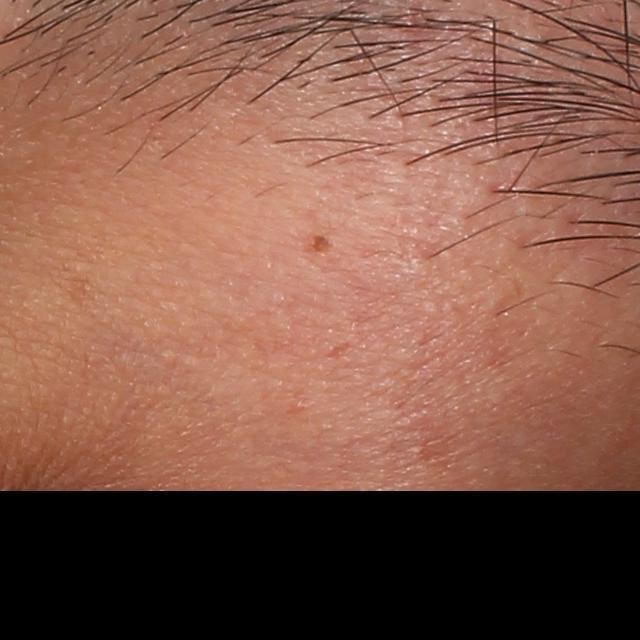nevus: (307, 232, 339, 257)
